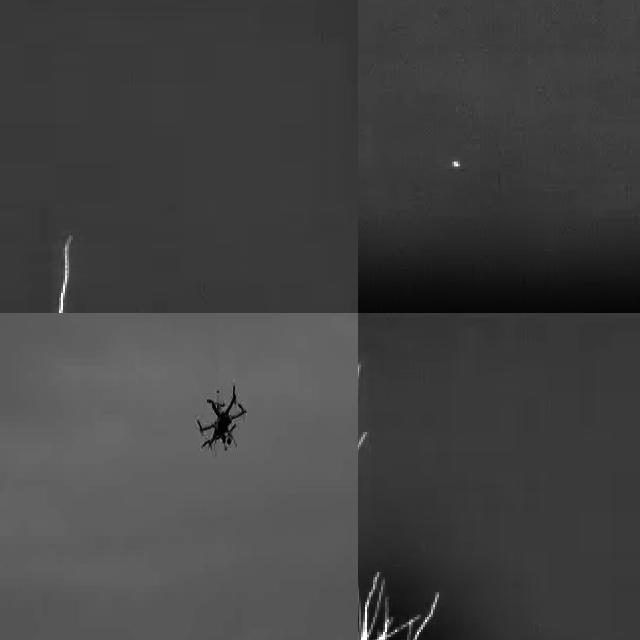0: (130, 305, 158, 313)
1: (446, 153, 474, 180)
drone: (192, 380, 248, 459)
